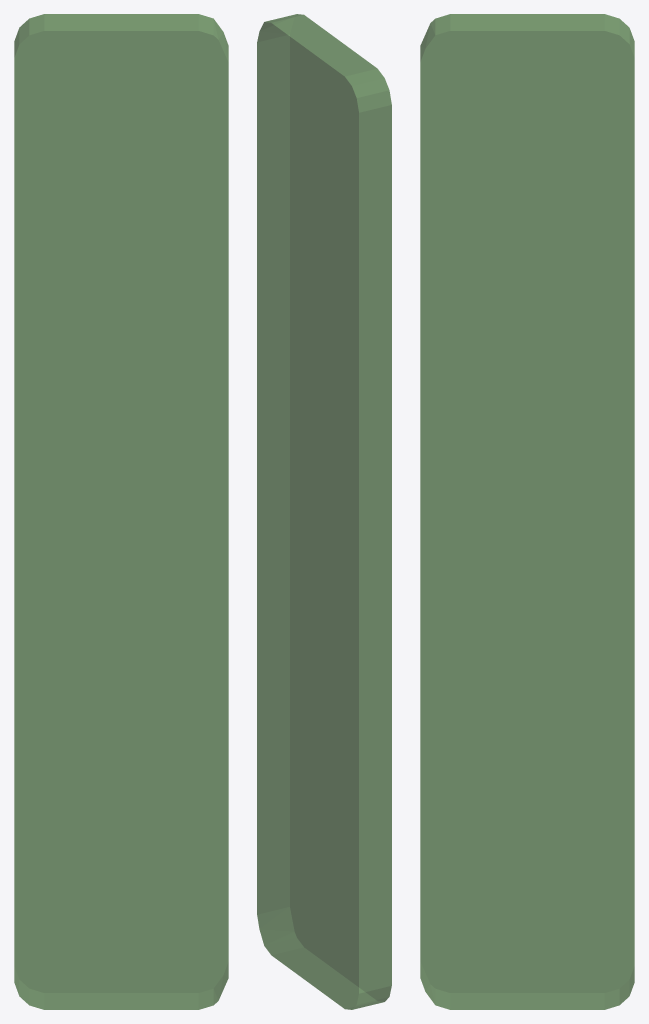
The model's file is OvenPanel.obj.
3 renders of one model, left to right at view 1: azimuth 90°, elevation 25°; view 2: azimuth 210°, elevation 25°; view 3: azimuth 270°, elevation 25°, orthographic. The views are drawn at different scales.
Visible parts, largest first — view 1: Shape_IndexedFaceSet_Shape_IndexedFaceSet.270; view 2: Shape_IndexedFaceSet_Shape_IndexedFaceSet.270; view 3: Shape_IndexedFaceSet_Shape_IndexedFaceSet.270.
Boxes of the visible parts, x1,y1,x2,y2 form: Shape_IndexedFaceSet_Shape_IndexedFaceSet.270: [14, 14, 228, 1009]; Shape_IndexedFaceSet_Shape_IndexedFaceSet.270: [257, 14, 391, 1009]; Shape_IndexedFaceSet_Shape_IndexedFaceSet.270: [420, 14, 634, 1009].
Size of the model in its own units: 0.022 by 0.5976 by 0.1184.
